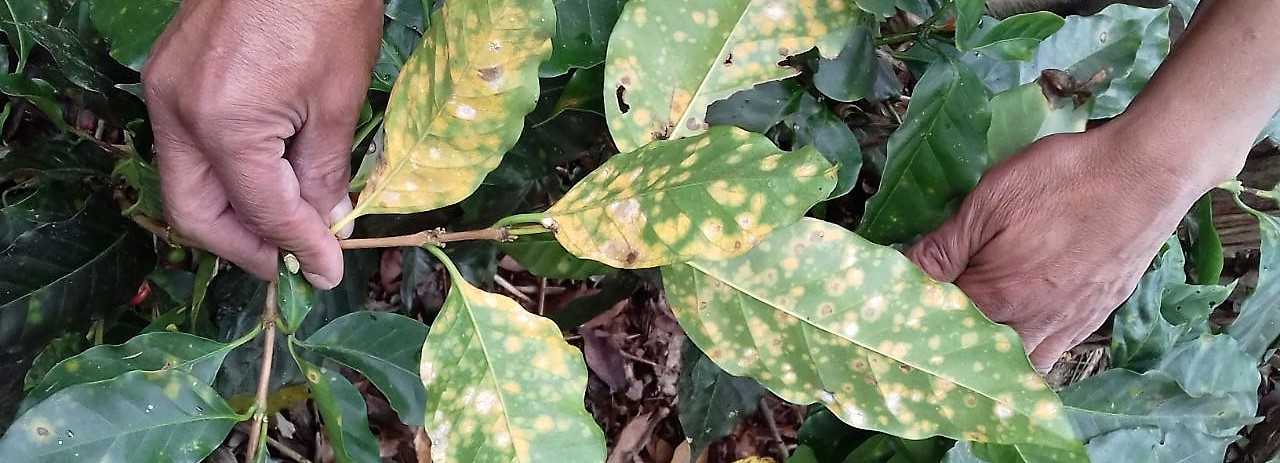mano: (368, 3, 543, 263)
